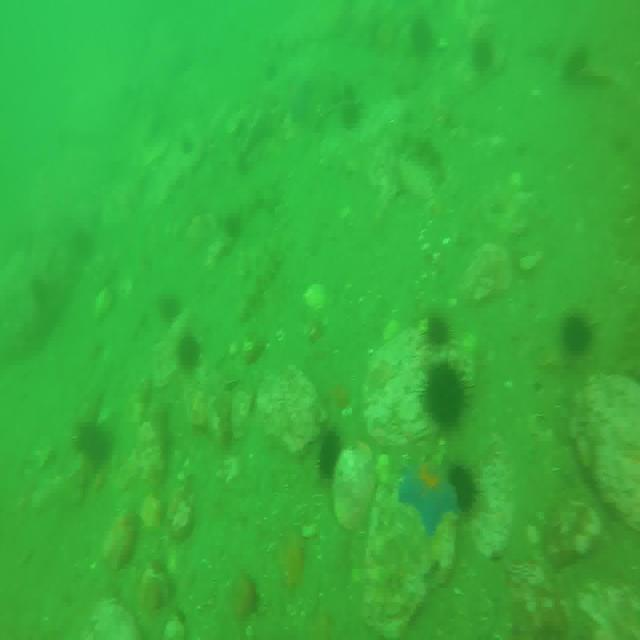echinus: (426, 360, 466, 430), (446, 464, 480, 514), (562, 306, 594, 356), (80, 423, 110, 467), (320, 430, 344, 476), (426, 308, 450, 349), (338, 96, 364, 132), (177, 333, 200, 373), (158, 290, 180, 326), (564, 48, 590, 78), (474, 33, 494, 68)
holothurian: (388, 124, 444, 178)
starfish: (401, 459, 458, 530), (282, 73, 315, 123)
